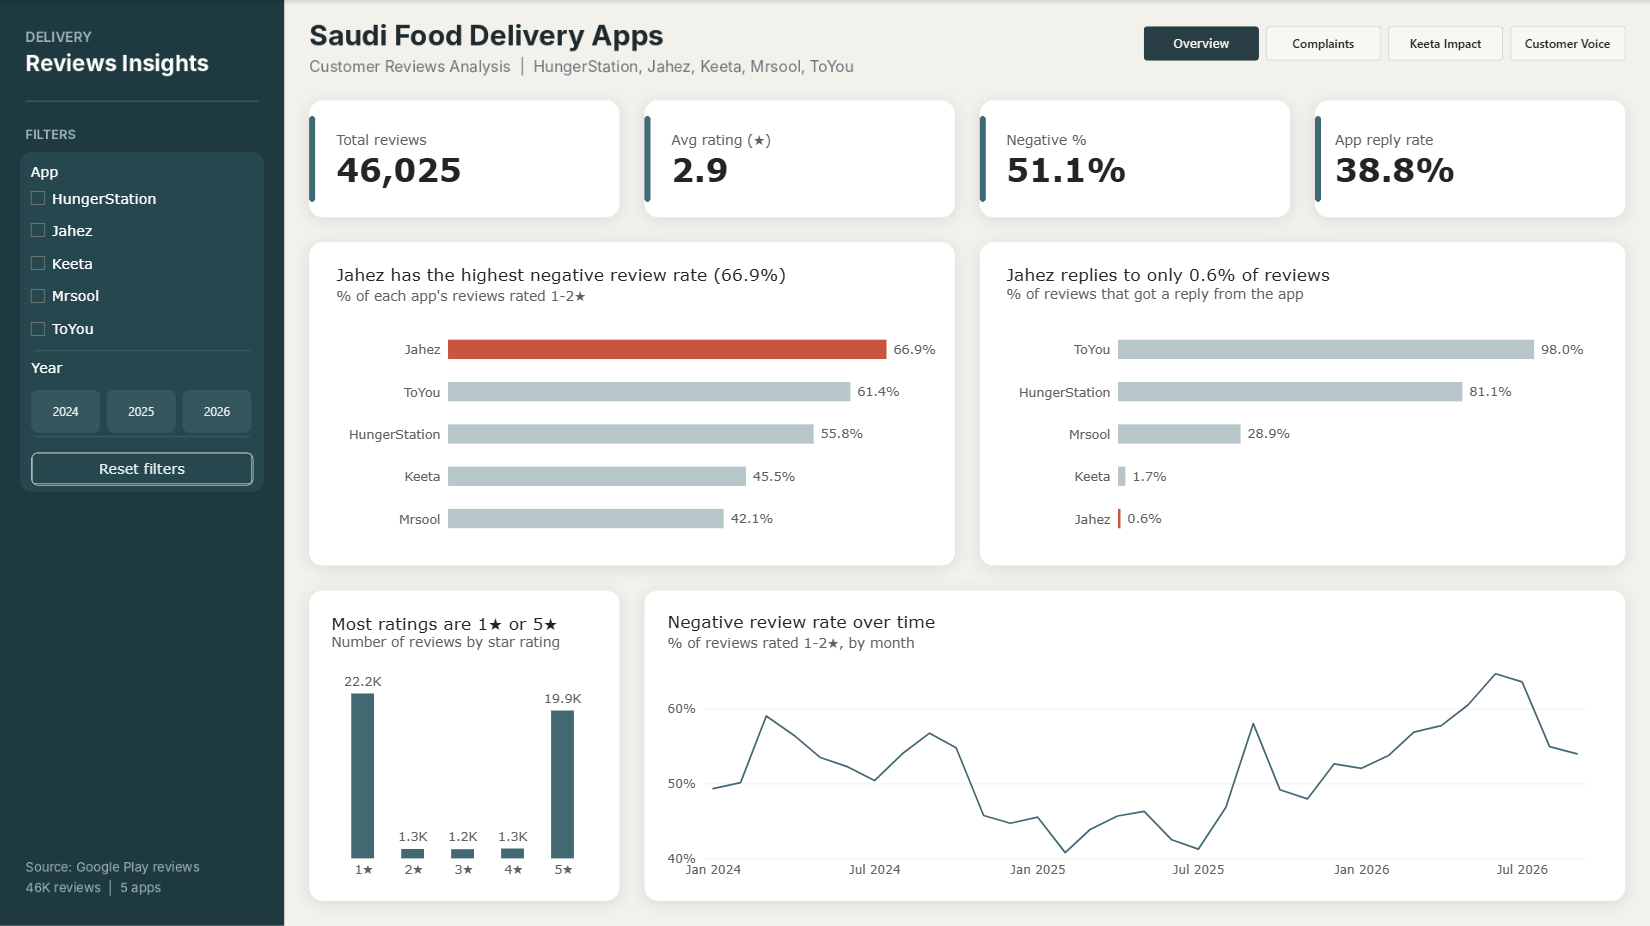

What the dashboard file says about the page in this screenshot:
{"tool":"powerbi","page":{"name":"Overview","canvas":[1920,1080],"ordinal":0},"visuals":[{"type":"cardVisual","fields":{"Data":["Fact_Reviews.Reviews Shown"]},"box":[375,125,335,125],"z":0},{"type":"cardVisual","fields":{"Data":["Fact_Reviews.Avg Rating"]},"box":[765,125,335,125],"z":1000},{"type":"cardVisual","fields":{"Data":["Fact_Reviews.Negative %"]},"box":[1155,125,335,125],"z":2000},{"type":"cardVisual","fields":{"Data":["Fact_Reviews.Reply Rate"]},"box":[1536.7,125,335,125],"z":3000},{"type":"slicer","fields":{"Values":["Dim_App.App"]},"box":[28.3,188.3,260,386.7],"z":4000},{"type":"clusteredBarChart","fields":{"Category":["Dim_App.App"],"Y":["Fact_Reviews.Negative %"]},"box":[375,291.7,730,360],"z":5000},{"type":"clusteredBarChart","fields":{"Category":["Dim_App.App"],"Y":["Fact_Reviews.Reply Rate"]},"box":[1155,291.7,704,360],"z":6000},{"type":"clusteredColumnChart","title":"Most ratings are 1★ or 5★","fields":{"Category":["Fact_Reviews.Stars Label"],"Y":["Fact_Reviews.Total Reviews"]},"box":[370,697,340,345],"z":7000},{"type":"lineChart","title":"Negative review rate over time","fields":{"Category":["Dim_Date.Month Start"],"Y":["Fact_Reviews.Negative %"]},"box":[760,697,1120,345],"z":8000},{"type":"advancedSlicerVisual","title":"Year","fields":{"Values":["Dim_Date.Year"]},"box":[36,418,258,86],"z":8001},{"type":"actionButton","box":[36,526,258,38],"z":8002},{"type":"pageNavigator","box":[1330,30,560,40],"z":8003}]}

Visuals, with their boxes in screenshot pixels (x1, y1, x2, y2), scaled from the page's 1920x1080 canvas onto the 1650x926 screenshot:
cardVisual - Fact_Reviews.Reviews Shown: 322,107,610,214
cardVisual - Fact_Reviews.Avg Rating: 657,107,945,214
cardVisual - Fact_Reviews.Negative %: 993,107,1280,214
cardVisual - Fact_Reviews.Reply Rate: 1321,107,1608,214
slicer - Dim_App.App: 24,161,248,493
clusteredBarChart - Dim_App.App x Fact_Reviews.Negative %: 322,250,950,559
clusteredBarChart - Dim_App.App x Fact_Reviews.Reply Rate: 993,250,1598,559
"Most ratings are 1★ or 5★" clusteredColumnChart: 318,598,610,893
"Negative review rate over time" lineChart: 653,598,1616,893
"Year" advancedSlicerVisual: 31,358,253,432
actionButton: 31,451,253,484
pageNavigator: 1143,26,1624,60
